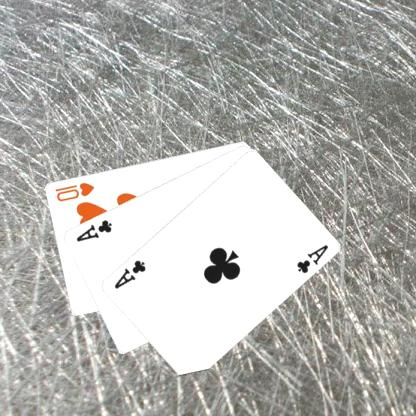10H: (54, 179, 97, 203)
AC: (112, 257, 148, 291), (295, 242, 331, 275), (75, 216, 114, 244)
